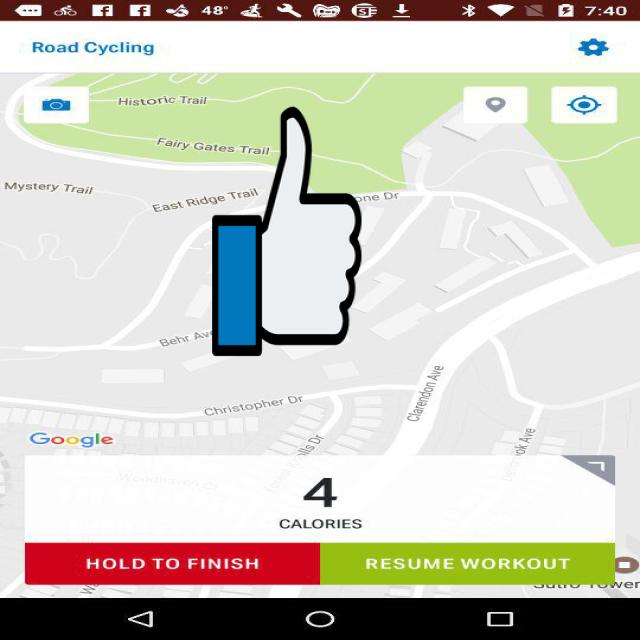privacy zuckering: (212, 101, 362, 362)
